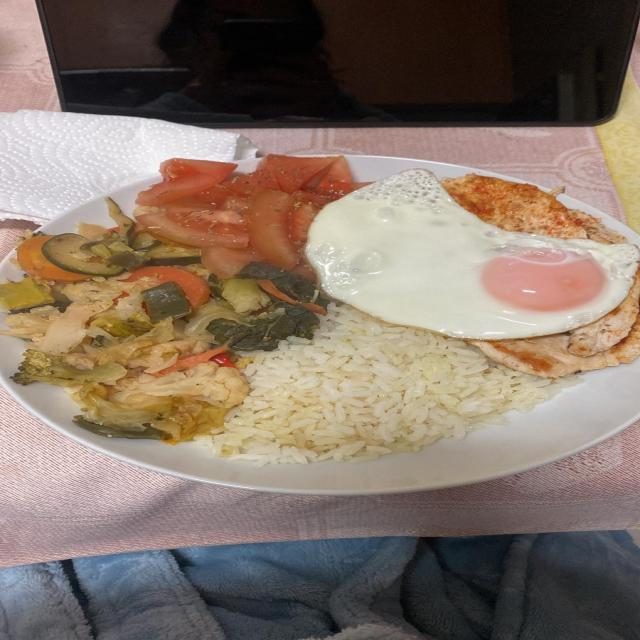chicken steak: (468, 260, 639, 378), (441, 174, 626, 244)
fried egg: (305, 168, 639, 340)
garbage: (0, 110, 240, 225)
plate: (0, 154, 639, 496)
rice: (196, 304, 574, 464)
vegetables: (0, 199, 327, 444)
